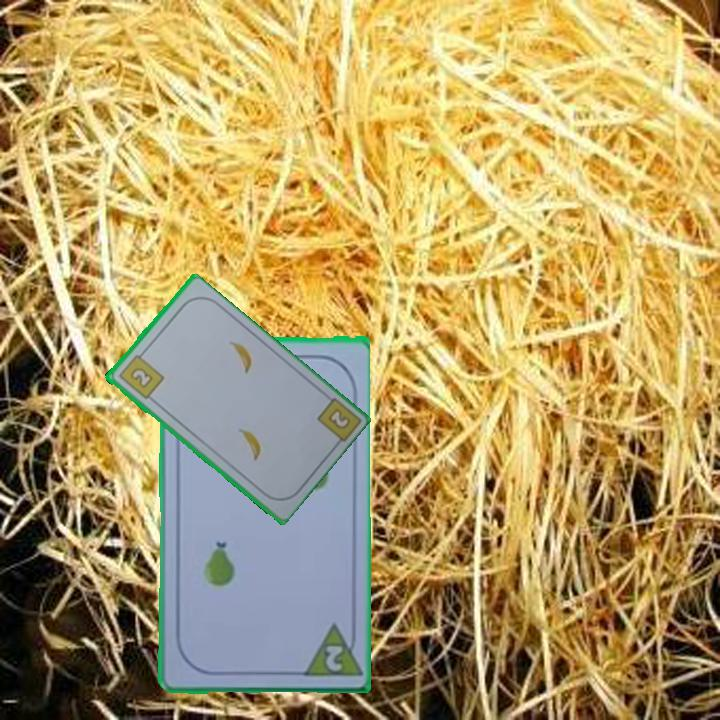2b: (115, 348, 166, 402), (324, 405, 353, 432)
2p: (297, 618, 362, 679)
